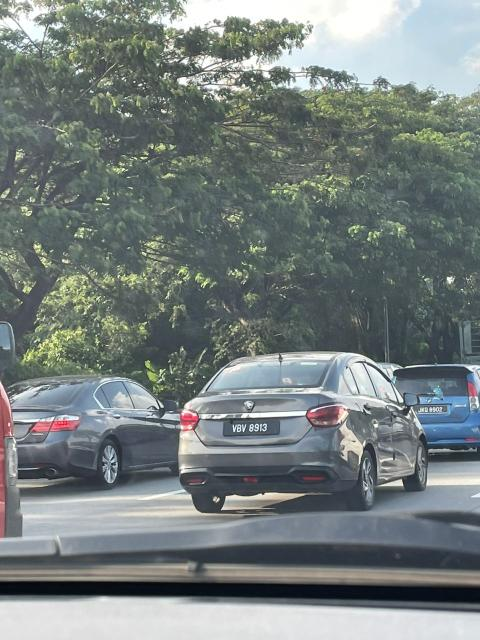License_Plate: (225, 417, 275, 440), (417, 404, 452, 419)
car: (178, 344, 425, 515), (5, 367, 197, 488), (394, 355, 480, 453)
